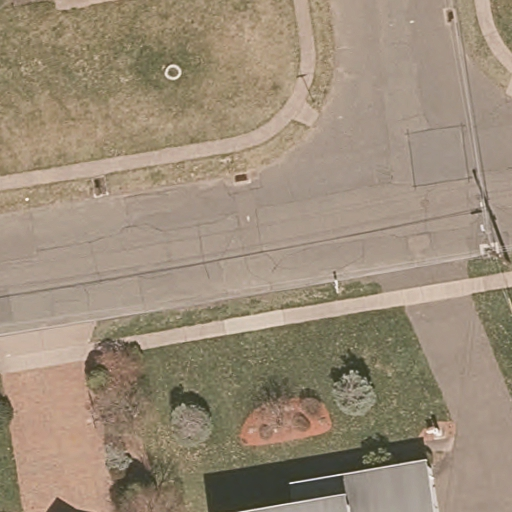DT: (477, 194, 503, 260)
